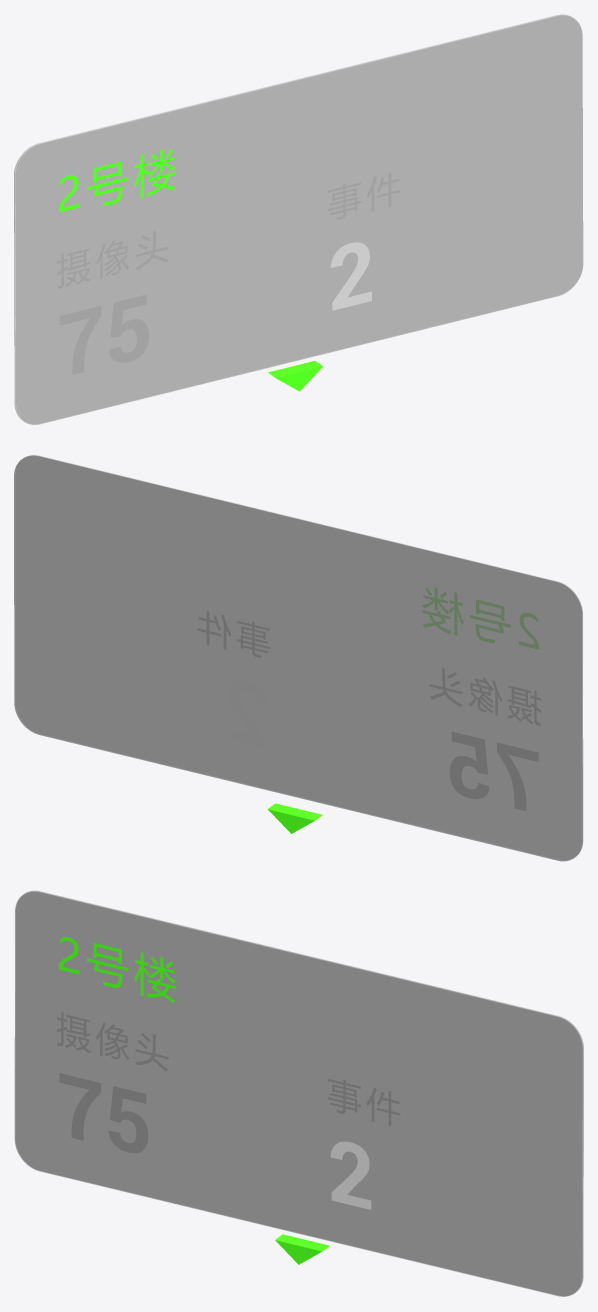
3 renders of one model, top to bottom at view 1: azimuth 30°, elevation 25°; view 2: azimuth 150°, elevation 25°; view 3: azimuth 330°, elevation 25°, orthographic.
Parts seen in each view (by area): view 1: 顶牌, 顶牌文字; view 2: 顶牌, 顶牌文字; view 3: 顶牌, 顶牌文字.
Part boxes in pixels (box(x1,y1,x2,y2)): 顶牌: box(14, 14, 583, 425); 顶牌文字: box(57, 149, 400, 374); 顶牌: box(14, 454, 583, 861); 顶牌文字: box(423, 588, 538, 648); 顶牌: box(14, 890, 583, 1297); 顶牌文字: box(57, 937, 400, 1209).
Bounding box in the file's own units: 2.32 × 1.22 × 0.0629.
